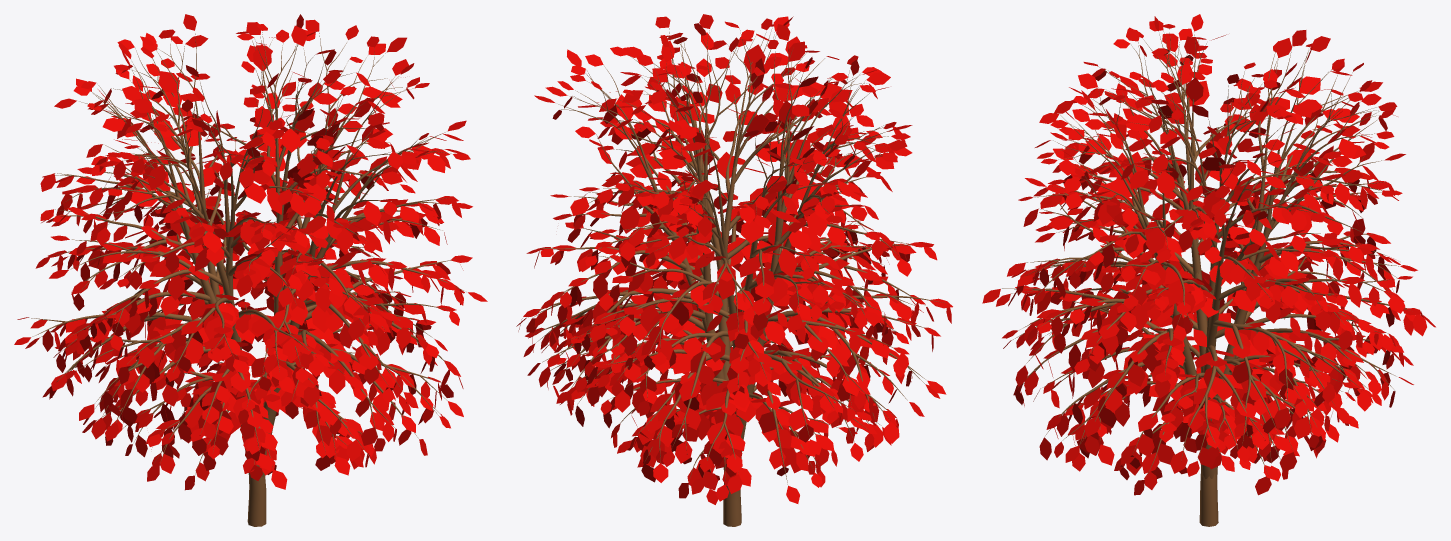
The model's file is Maple_1.glb.
The picture shows the model from 3 angles, left to right: view 1: azimuth 30°, elevation 25°; view 2: azimuth 150°, elevation 25°; view 3: azimuth 270°, elevation 25°; orthographic projection.
Visible parts, largest first — view 1: leaves, tree; view 2: leaves, tree; view 3: leaves, tree.
Part boxes in pixels (bbox=[...]): leaves: bbox=[14, 14, 487, 490]; tree: bbox=[28, 32, 463, 526]; leaves: bbox=[516, 14, 952, 504]; tree: bbox=[528, 28, 945, 526]; leaves: bbox=[982, 14, 1435, 495]; tree: bbox=[1002, 29, 1409, 526].
Bounding box in the file's own units: 13.83 × 16.71 × 14.24.
